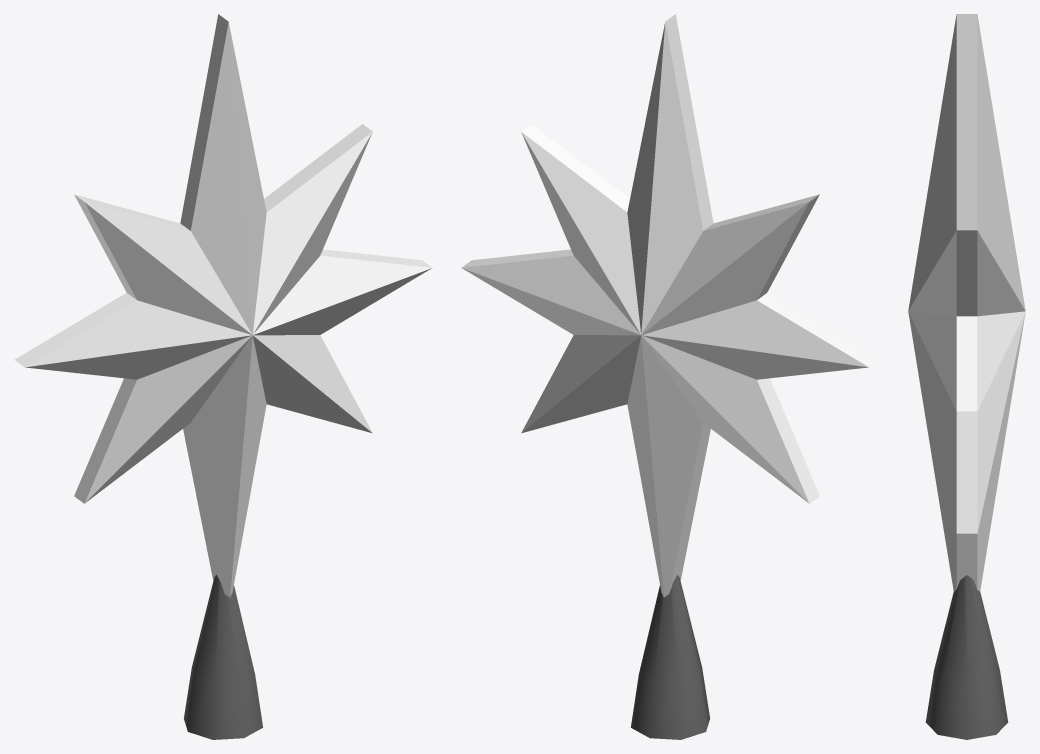
The model's file is Stars5.fbx.
3 views of the same model, side by side, from view 1: azimuth 30°, elevation 25°; view 2: azimuth 150°, elevation 25°; view 3: azimuth 270°, elevation 25° (orthographic).
Parts seen in each view (by area): view 1: Star5; view 2: Star5; view 3: Star5.
Part boxes in pixels (x1,y1,x2,y2): Star5: [14, 14, 432, 739]; Star5: [461, 14, 879, 739]; Star5: [908, 14, 1025, 739].
Bounding box in the file's own units: 86.92 × 144 × 21.58.
